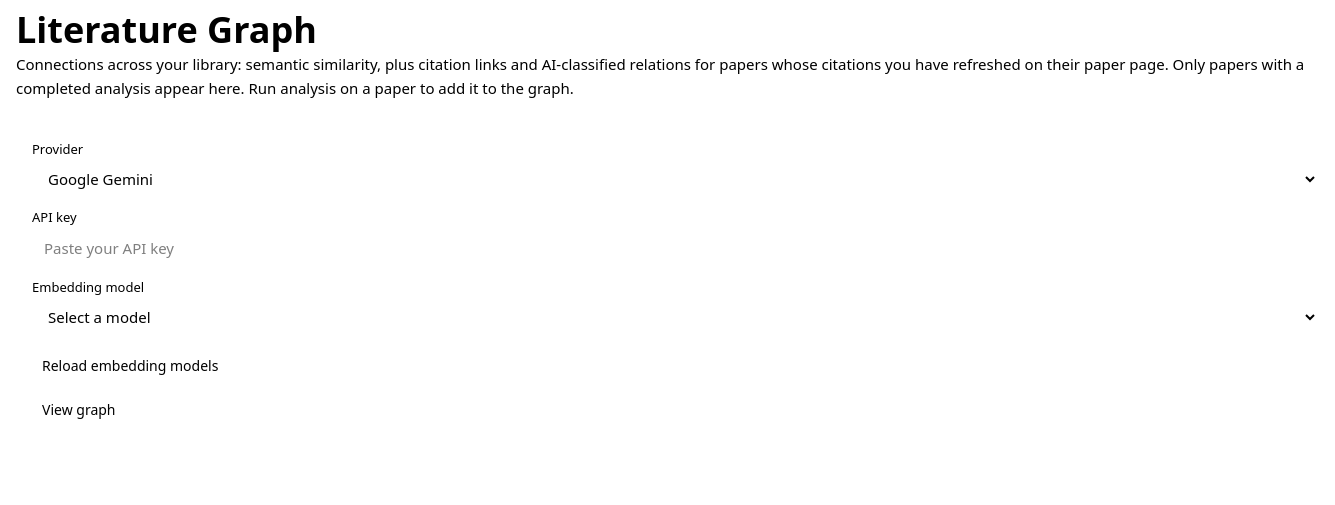
Test: GraphPage › shows a clear message when there are analyzed papers but no edges yet
In the password field labelled "API key": (675, 248) [32,230,1318,266], type "test-key"
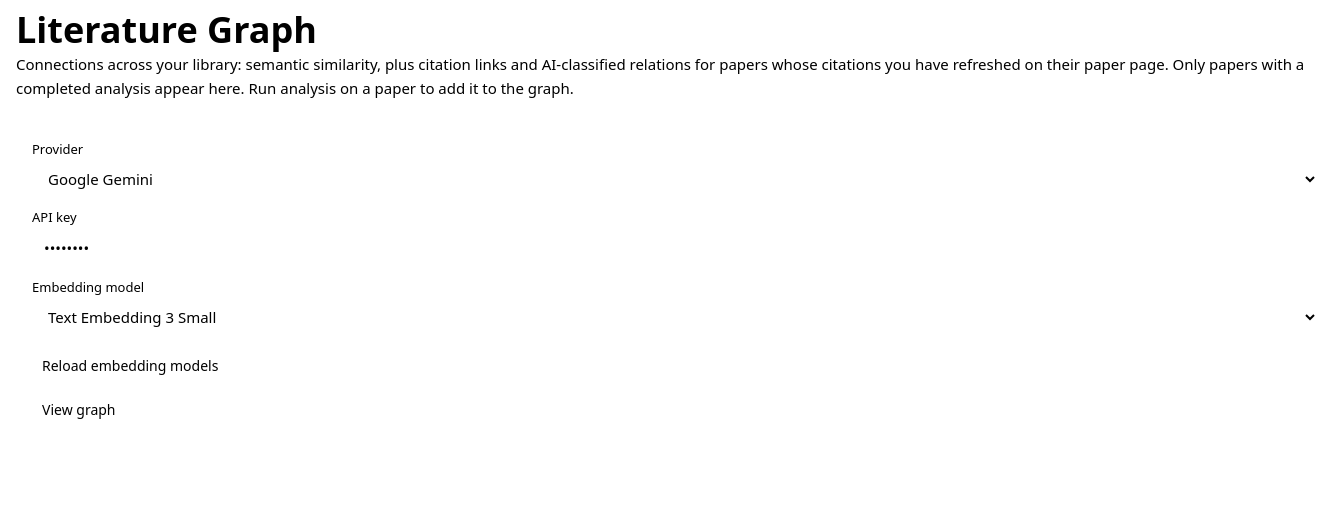
Click the button "View graph": (79, 410) [32,394,126,426]
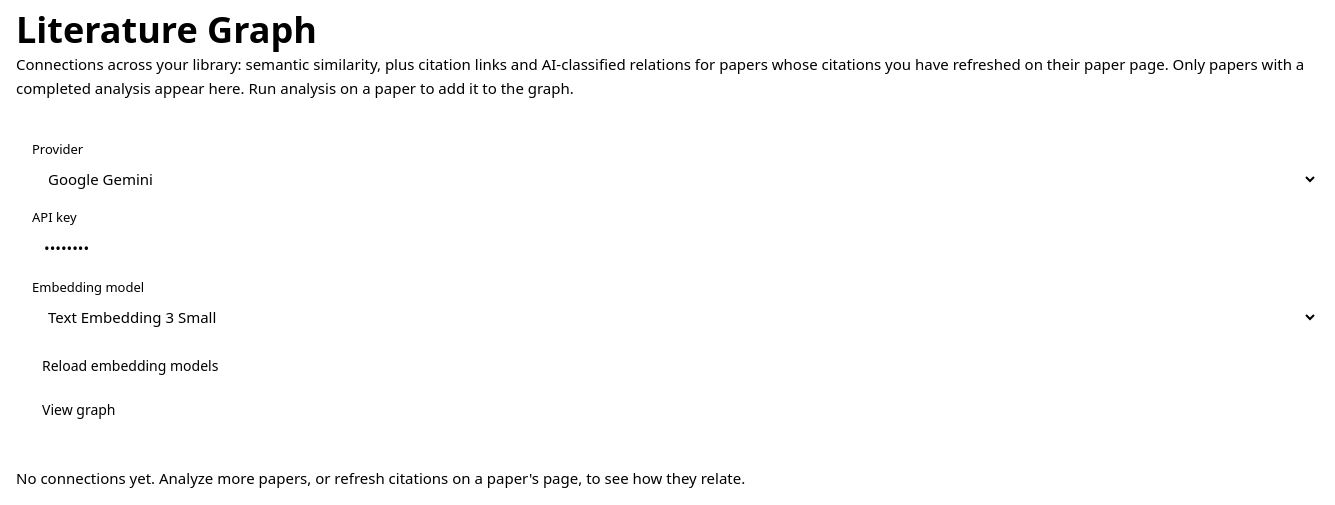
Expected: the text "No connections yet. Analyze more papers" is shown, [16,468,745,488]
